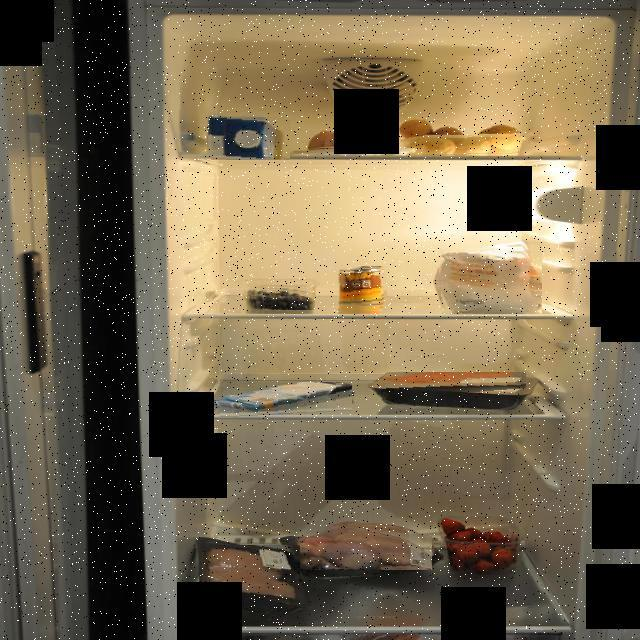beef: (378, 372, 526, 399)
blueberries: (244, 284, 315, 310)
chicken: (289, 521, 432, 570)
chicken_breast: (202, 545, 300, 608)
chocolate: (210, 382, 352, 418)
corn: (334, 266, 387, 308)
eggs: (308, 130, 394, 150)
flour: (436, 243, 542, 314)
milk: (204, 113, 291, 160)
potato: (400, 116, 520, 156)
strawberries: (439, 516, 522, 575)
